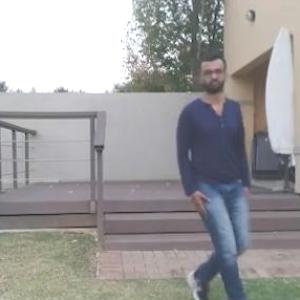follow: (162, 42, 257, 299)
